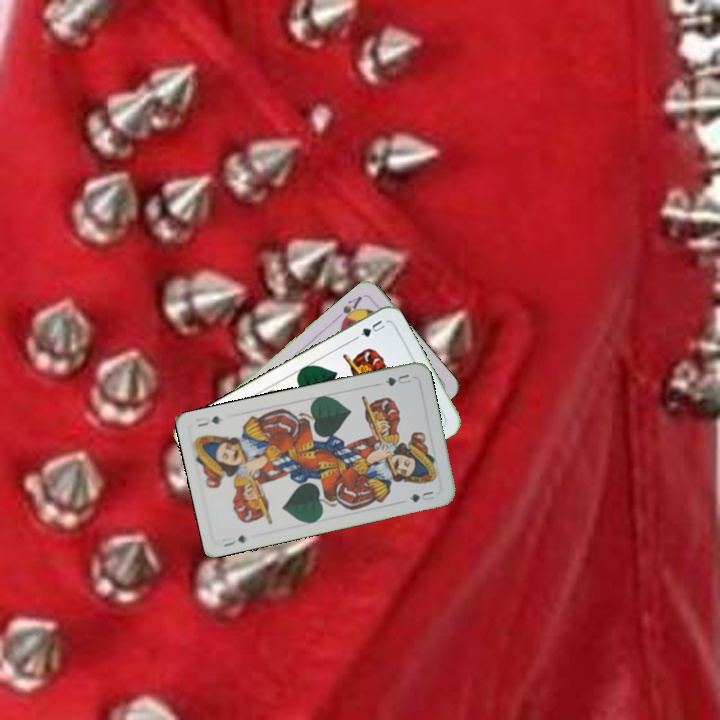GU: (351, 316, 388, 342), (381, 370, 413, 389), (218, 531, 249, 549)
SA: (337, 292, 365, 326)
